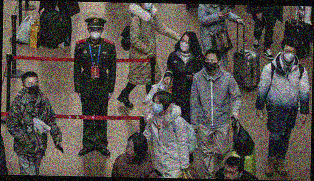with_mask: (25, 79, 40, 97), (281, 47, 298, 62), (203, 57, 218, 72), (152, 99, 166, 115), (89, 27, 103, 42), (178, 38, 192, 53)
without_mask: (124, 143, 137, 158), (222, 168, 237, 180)
